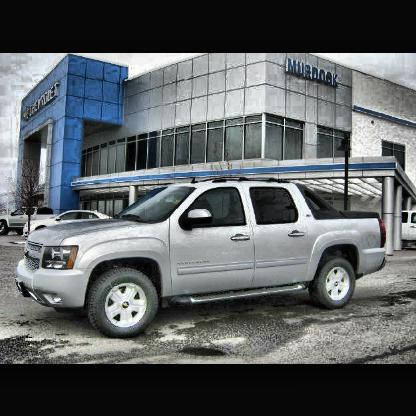Chevrolet Avalanche Crew Cab 2012: (17, 178, 388, 341)
